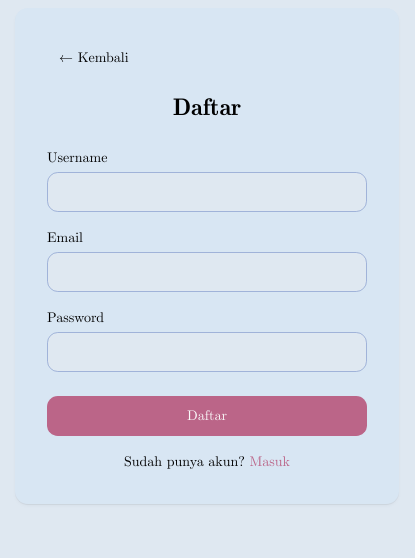
it: RegisterPage › validasi client-side › menampilkan error untuk username kurang dari 3 karakter
Type "ab" into the field labelled "Username" at (207,192), box [47, 172, 367, 212]
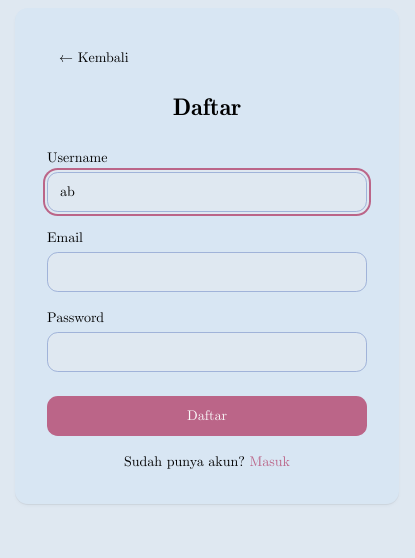
Click the button "Daftar" at (207,416), box [47, 396, 367, 436]
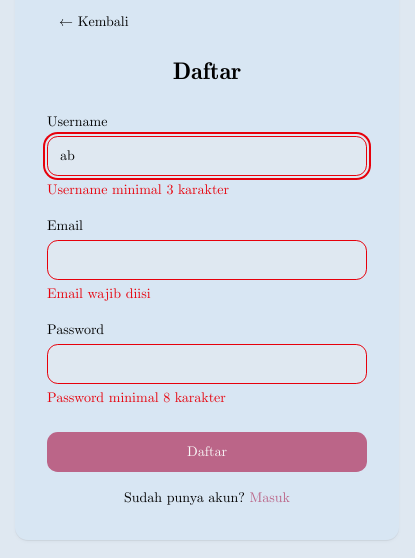
Now the text "Username minimal 3 karakter" is shown, box [47, 183, 229, 197]
